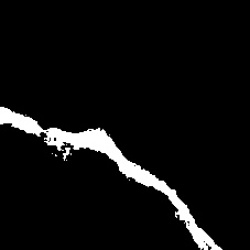crack: (2, 107, 220, 248)
